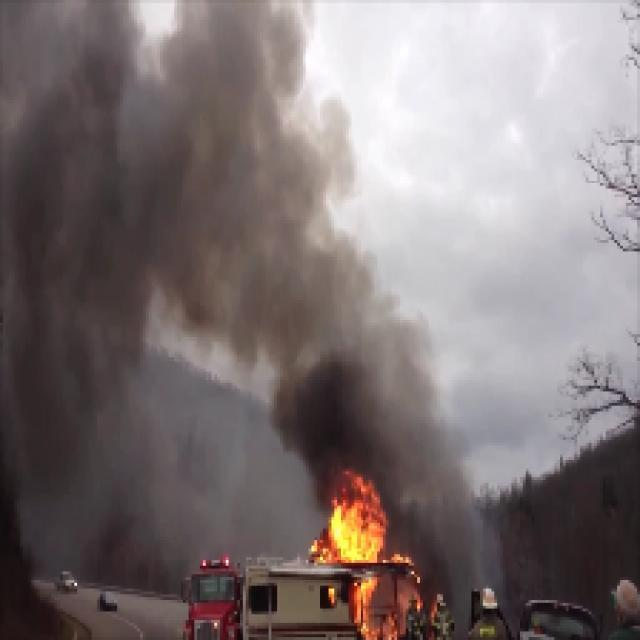Smoke: (7, 7, 322, 330), (279, 336, 438, 450)
